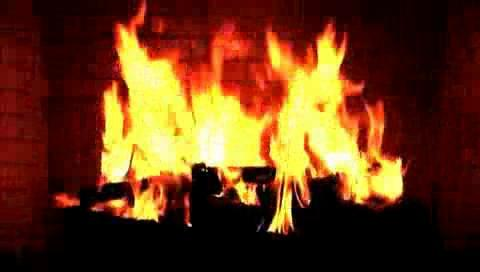fire: (69, 0, 460, 230)
